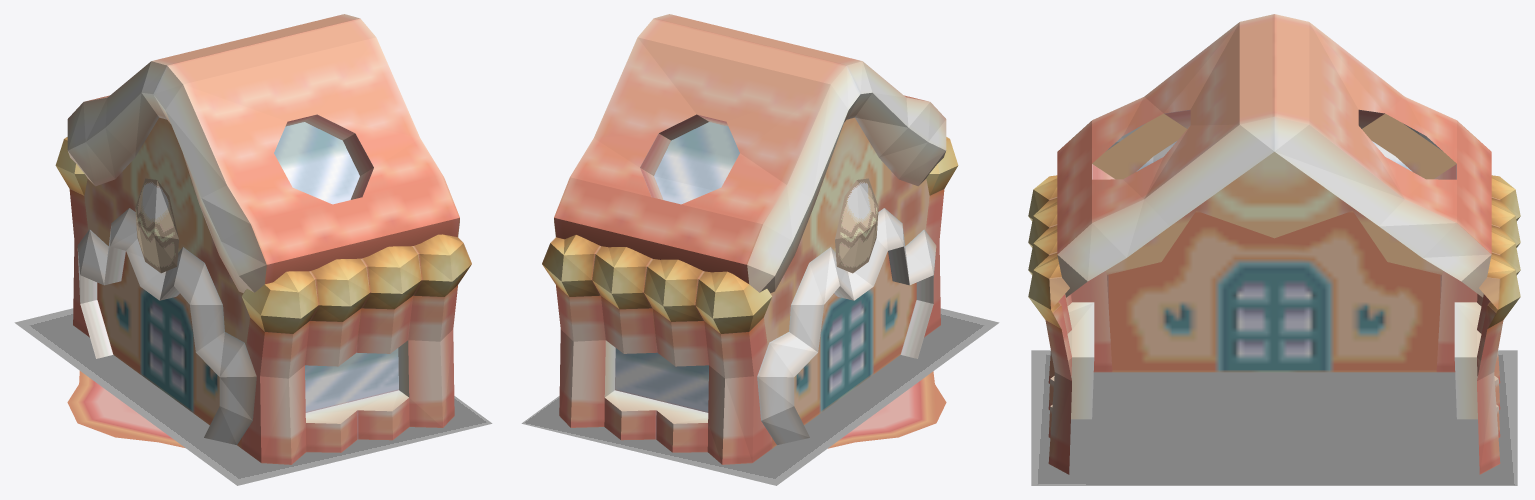
The picture shows the model from 3 angles, left to right: view 1: azimuth 30°, elevation 25°; view 2: azimuth 150°, elevation 25°; view 3: azimuth 270°, elevation 25°; orthographic projection. The views are drawn at different scales.
Parts seen in each view (by area): view 1: polygon0, polygon2, polygon1; view 2: polygon0, polygon2, polygon1; view 3: polygon0, polygon2.
Part boxes in pixels (x1=…): polygon0: x1=55, y1=14, x2=471, y2=464; polygon2: x1=14, y1=308, x2=492, y2=485; polygon1: x1=135, y1=178, x2=178, y2=273; polygon0: x1=542, y1=14, x2=958, y2=464; polygon2: x1=521, y1=308, x2=999, y2=485; polygon1: x1=835, y1=178, x2=878, y2=273; polygon0: x1=1028, y1=14, x2=1520, y2=474; polygon2: x1=1031, y1=350, x2=1517, y2=485.
Bounding box in the file's own units: 5.5 × 5.81 × 7.09.
3 materials, 3 textured.
